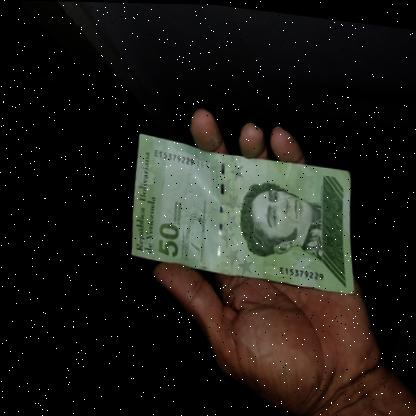fifty-front-vef: (116, 131, 364, 293)
